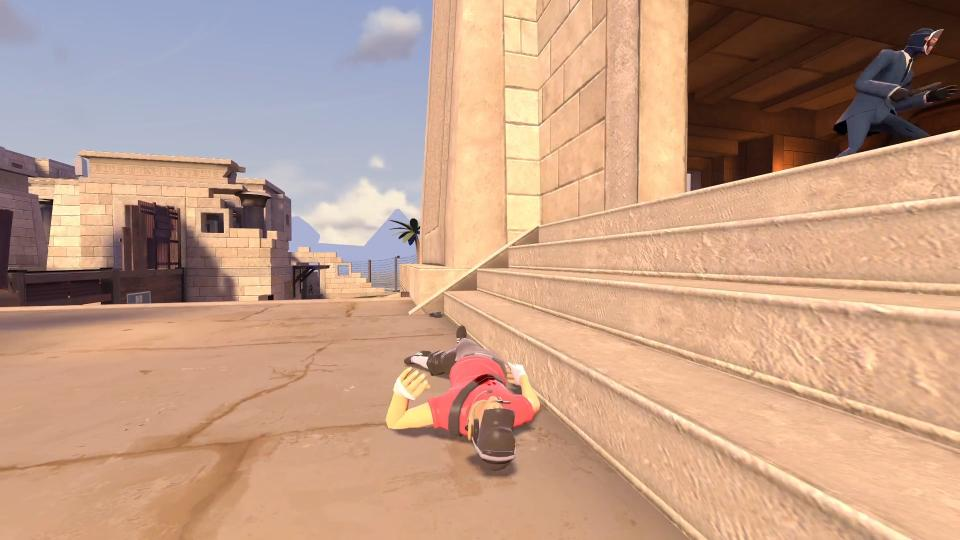Enemy: (387, 324, 544, 466), (836, 27, 950, 155)
